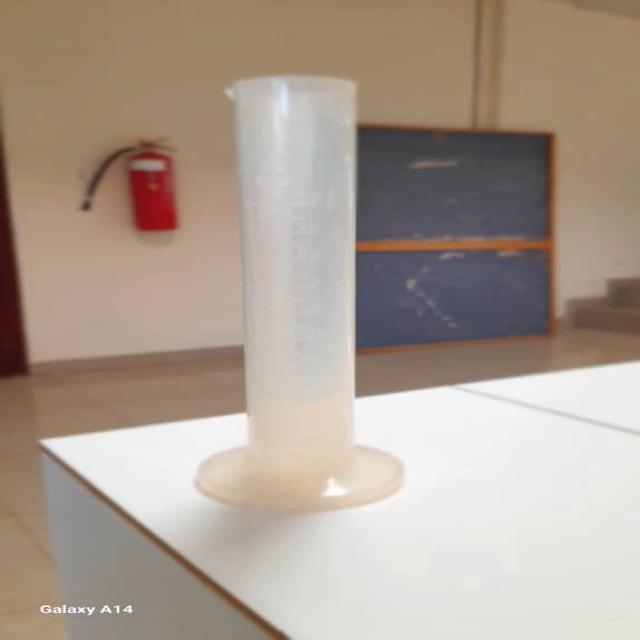Measuring Cylinder: (191, 75, 402, 510)
